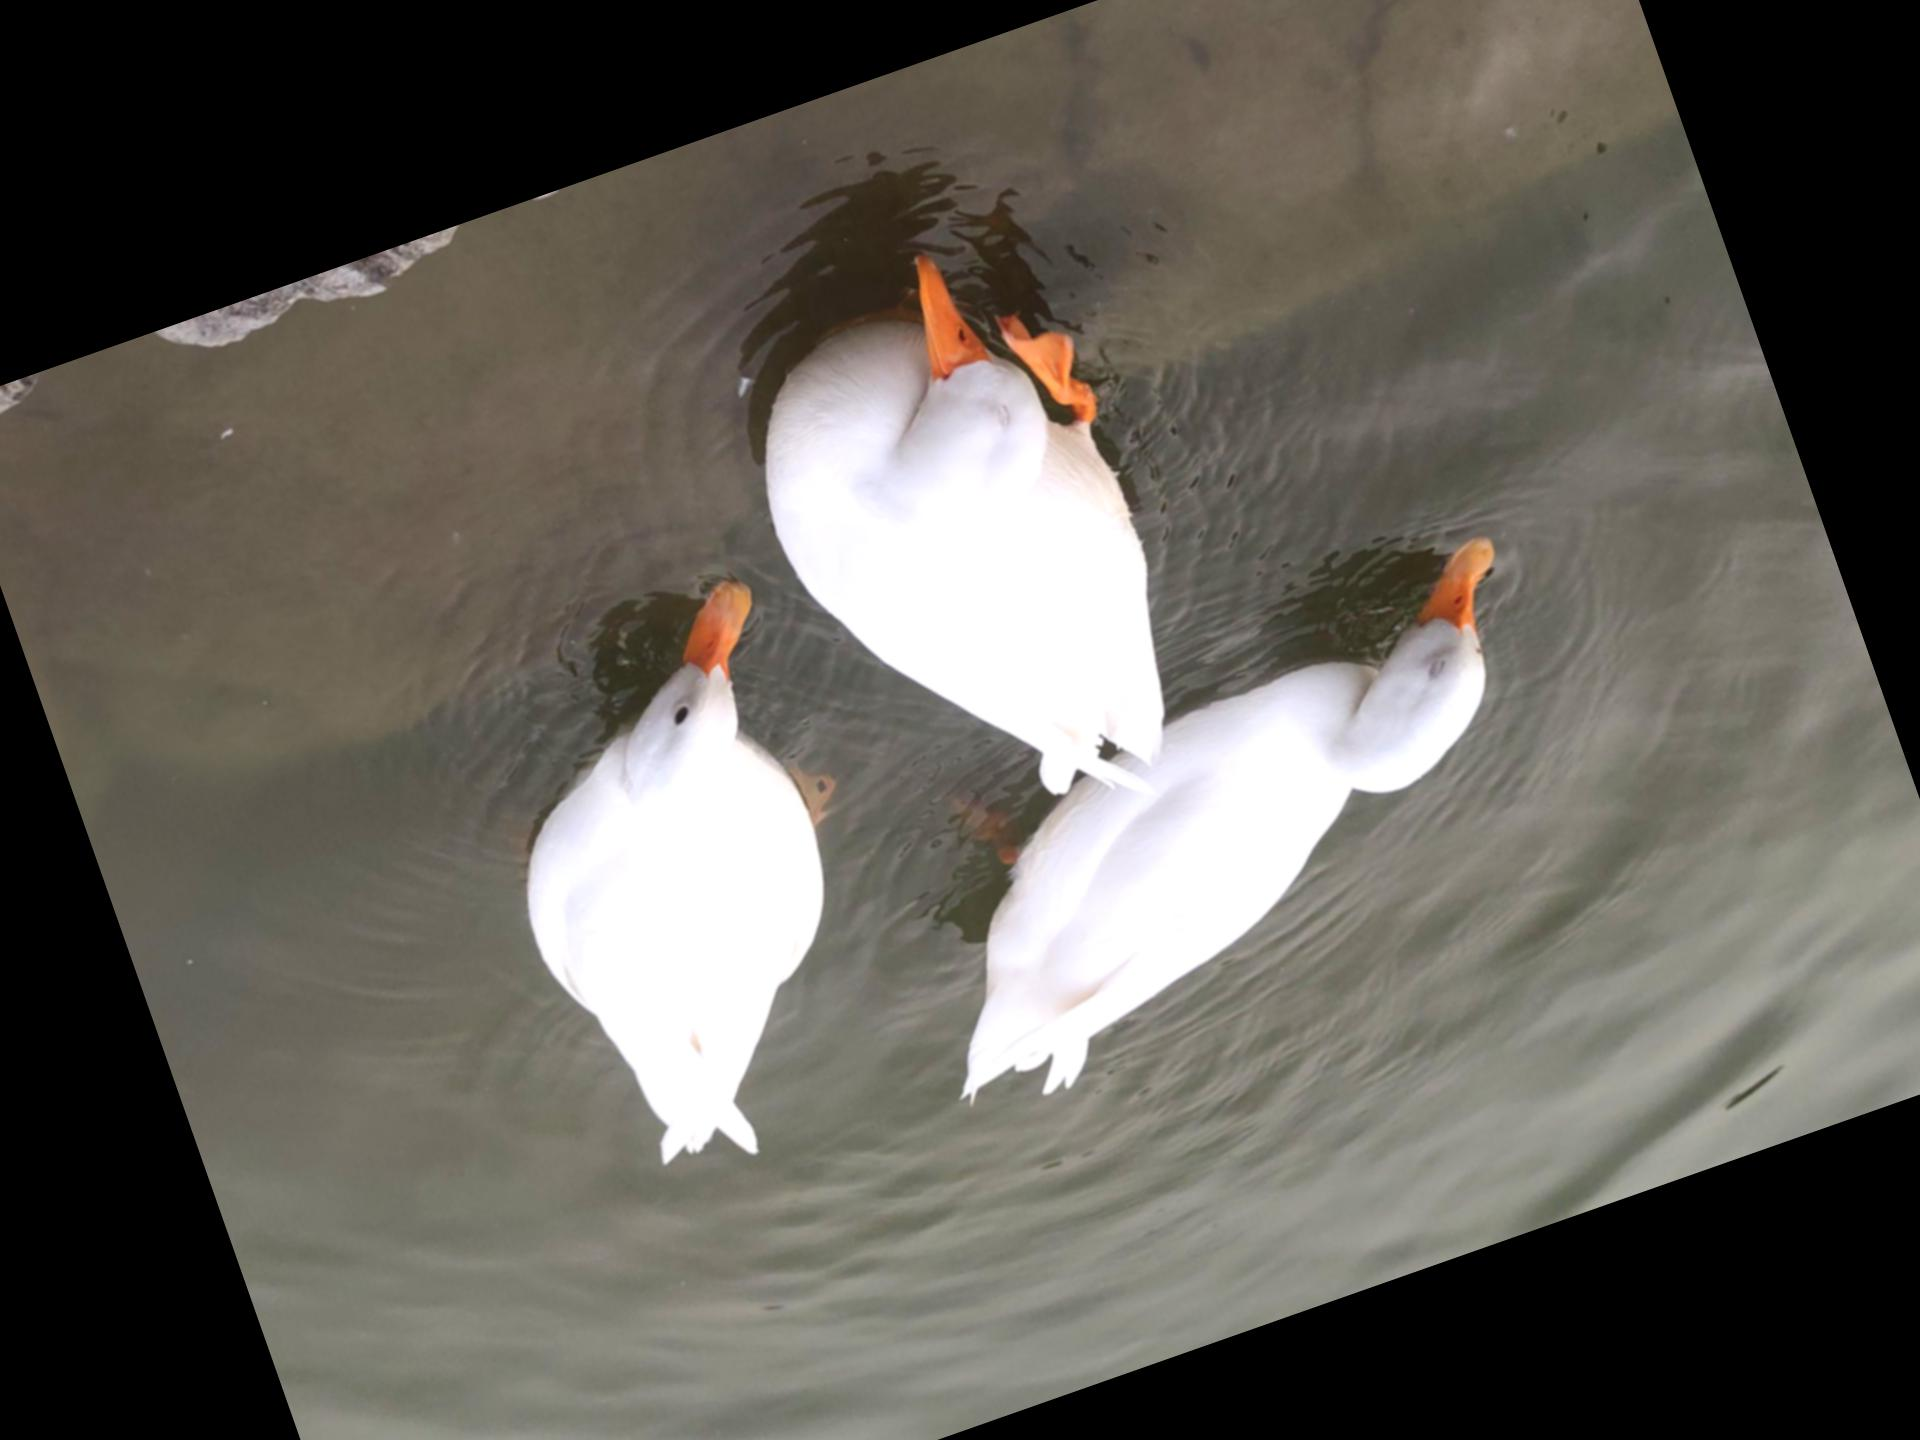duck: (813, 511, 1633, 1159), (680, 209, 1259, 912), (429, 557, 939, 1212)
